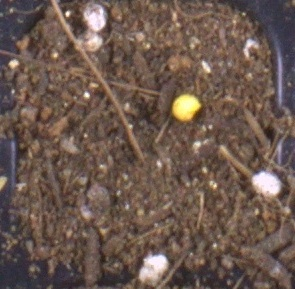chilli seed: (170, 93, 202, 123)
